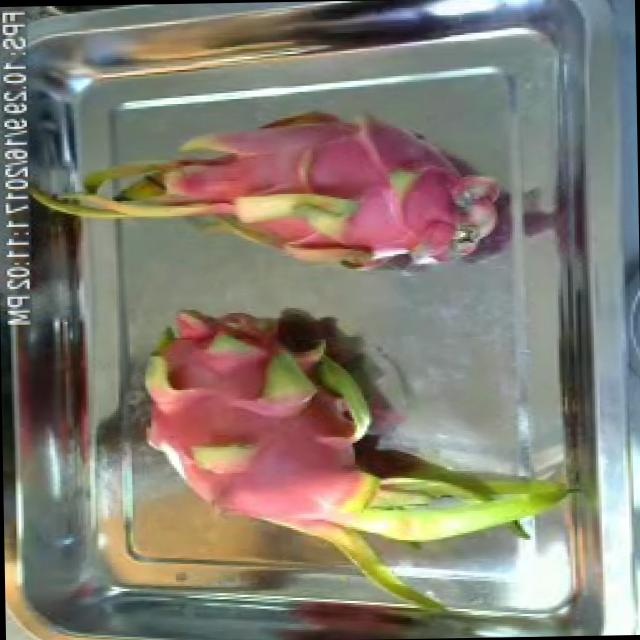Fruit: (342, 424, 459, 486)
